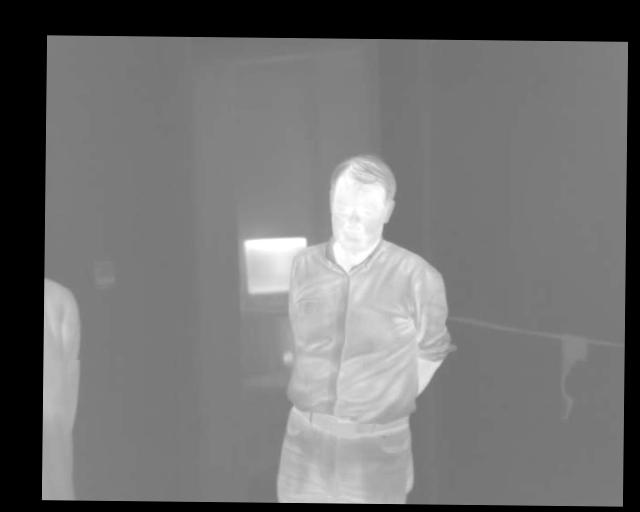face: (326, 153, 397, 256)
